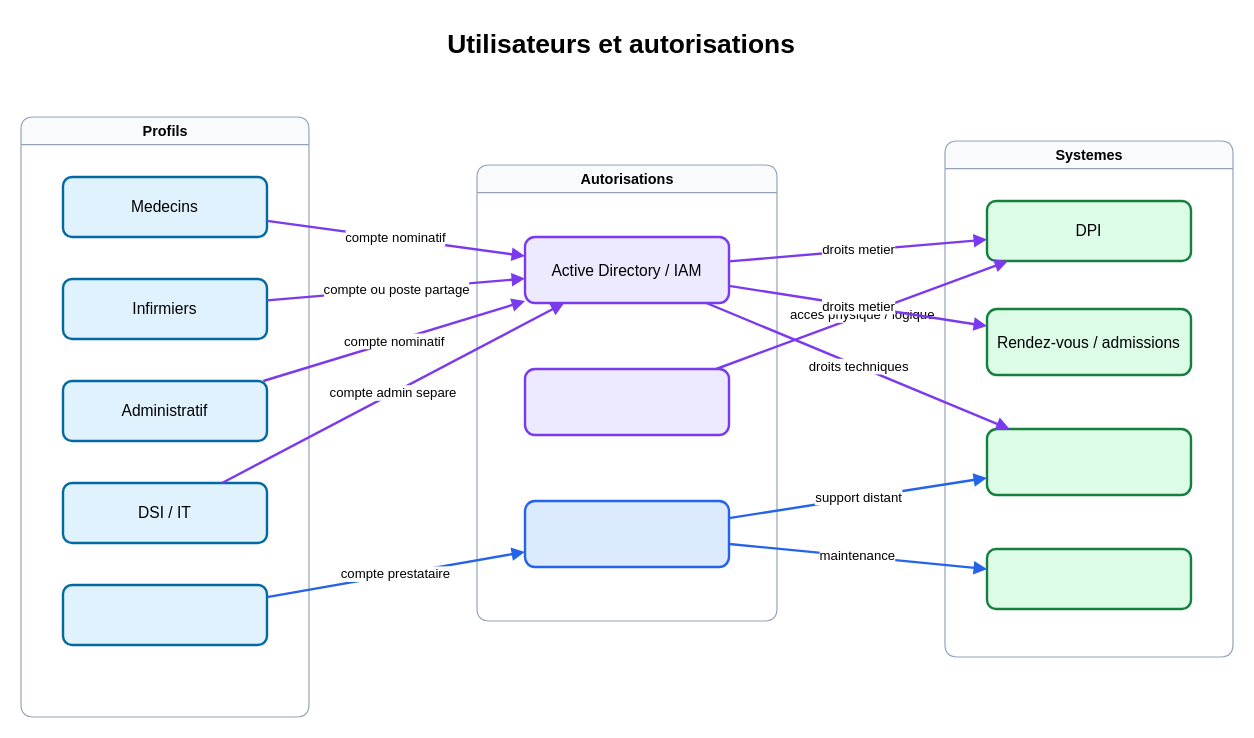
Image size: 1254x738. Some labels were removed from this diagram. The shapes that lost their labels are listed below. From the top down, each one's centre as x and y in pixels, then its label:
pixel 626 401: Badge / carte pro
pixel 1088 461: Administration SI
pixel 626 533: VPN / telemaintenance
pixel 1088 578: Biomedical
pixel 164 614: Prestataires
